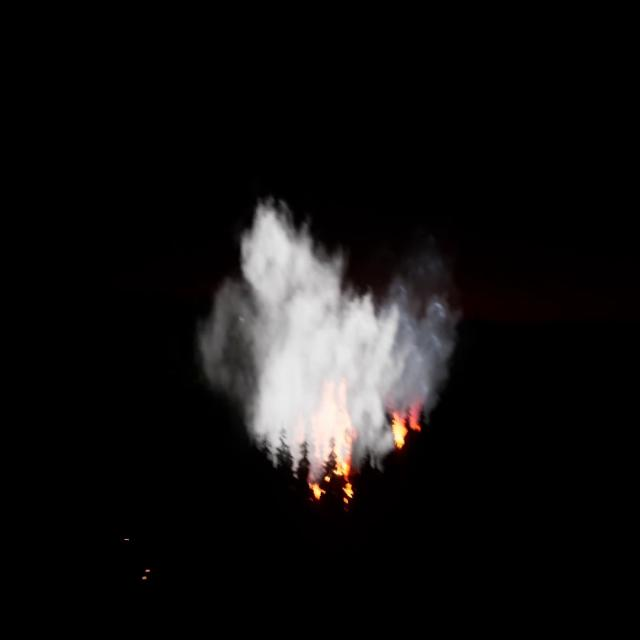fire: (299, 385, 355, 490), (389, 399, 421, 456)
smoke: (197, 183, 465, 467)
